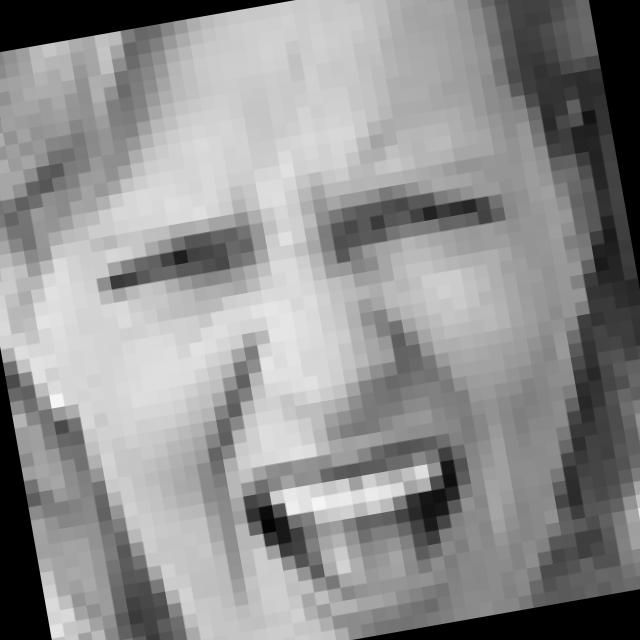angry: (89, 157, 566, 640)
